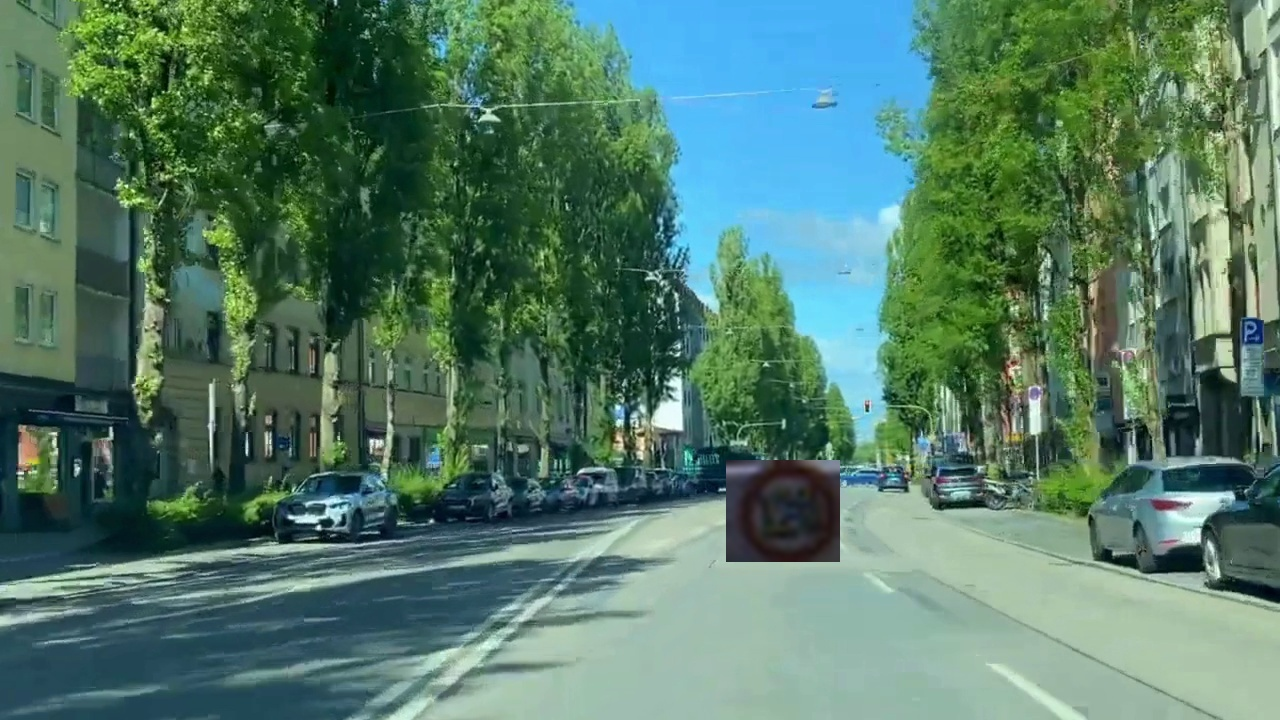Speed 120: (726, 460, 840, 562)
